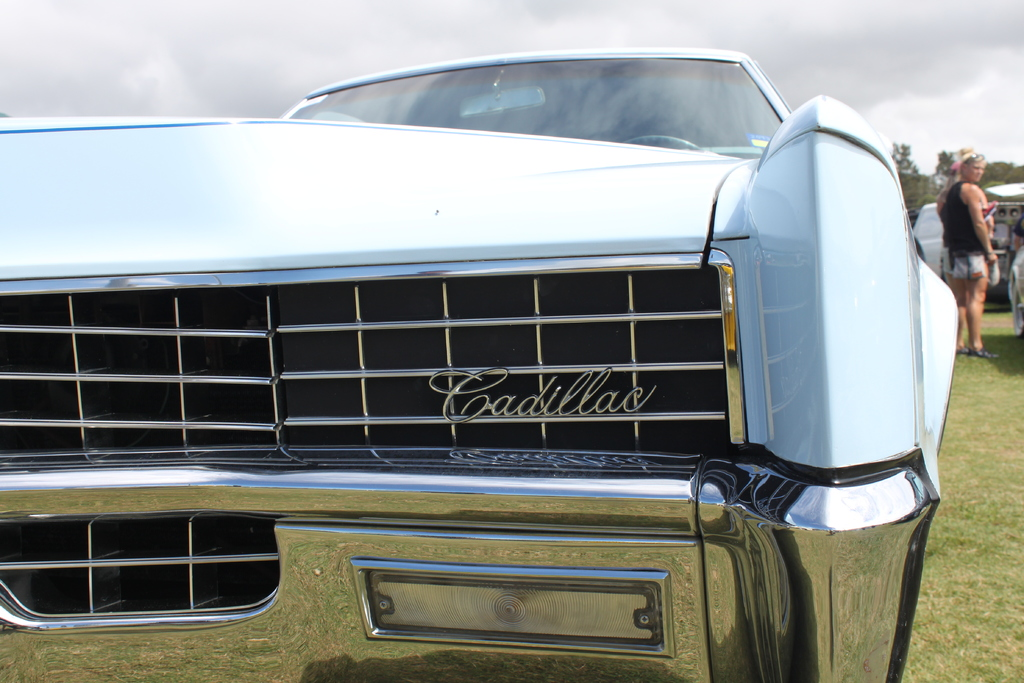Car: (15, 48, 975, 683)
